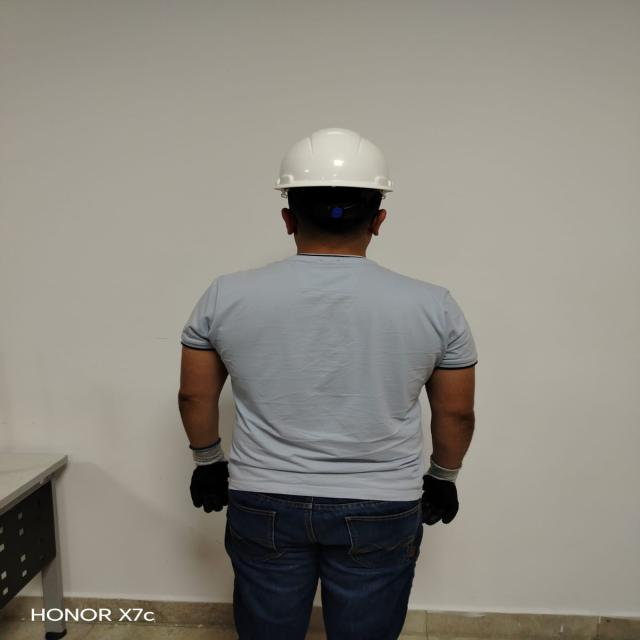gloves: (190, 438, 229, 512), (421, 456, 460, 526)
helmet: (275, 128, 393, 197)
